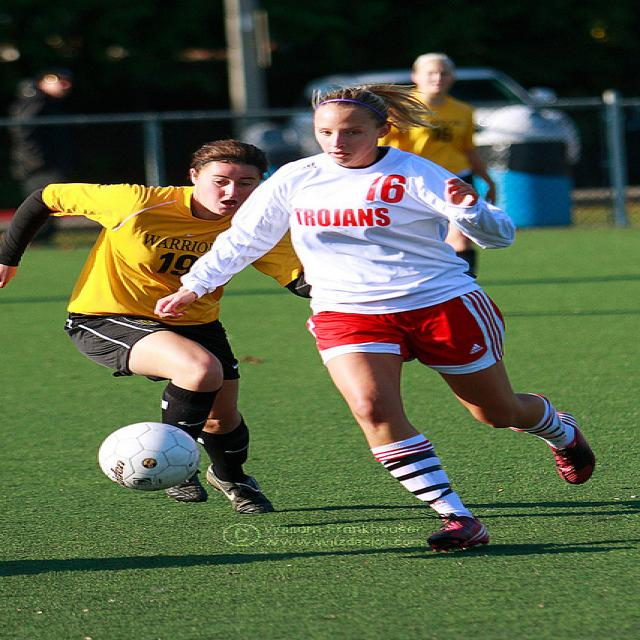Vehicle: (458, 72, 590, 156)
